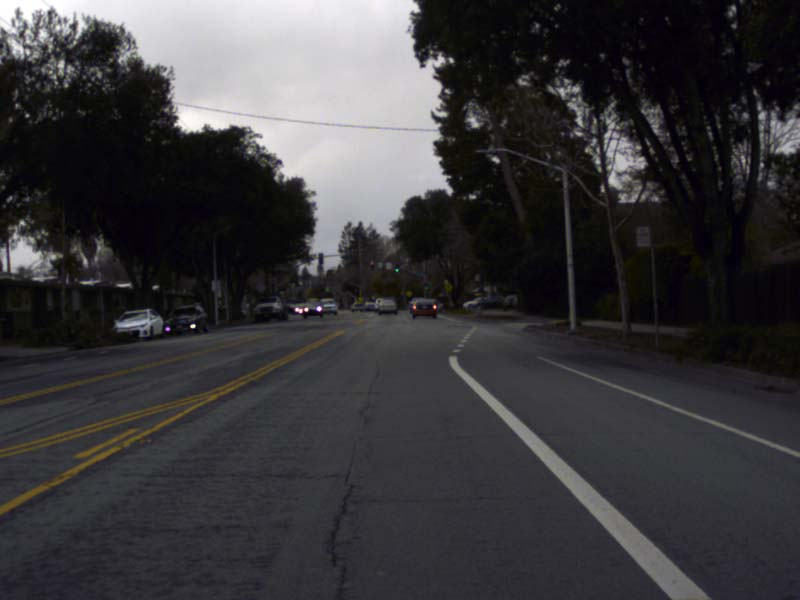Green: (325, 283, 329, 291), (395, 263, 398, 271), (424, 282, 427, 289)
Red: (370, 261, 373, 270)
